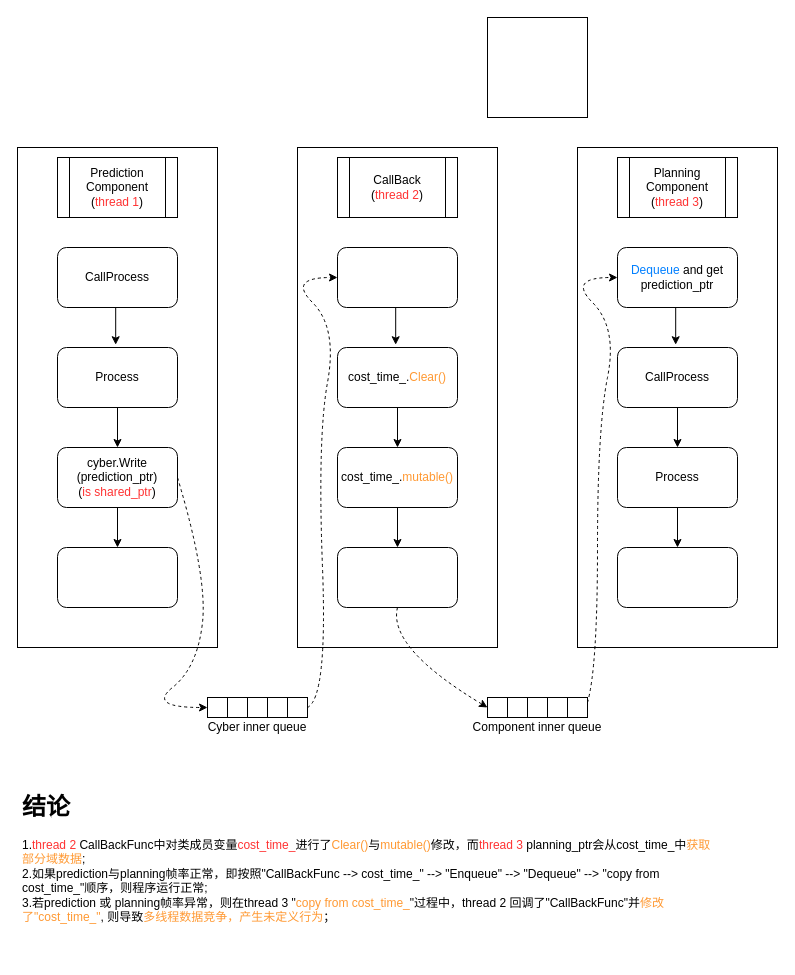
The diagram is 795 pixels wide and 975 high, and some of its shapes have lost their labels. Here are the shapes that lost their labels. From the top down, the centre of each, then its label:
the point at 537,67: cost_time_ ( member variable )
the point at 397,277: CallBackFunc
the point at 117,577: prediction_ptr->ByteSizeLong()
the point at 397,577: Enqueue (prediction_ptr) ( thread safe )
the point at 677,577: planning_ptr copy some field from cost_time_
